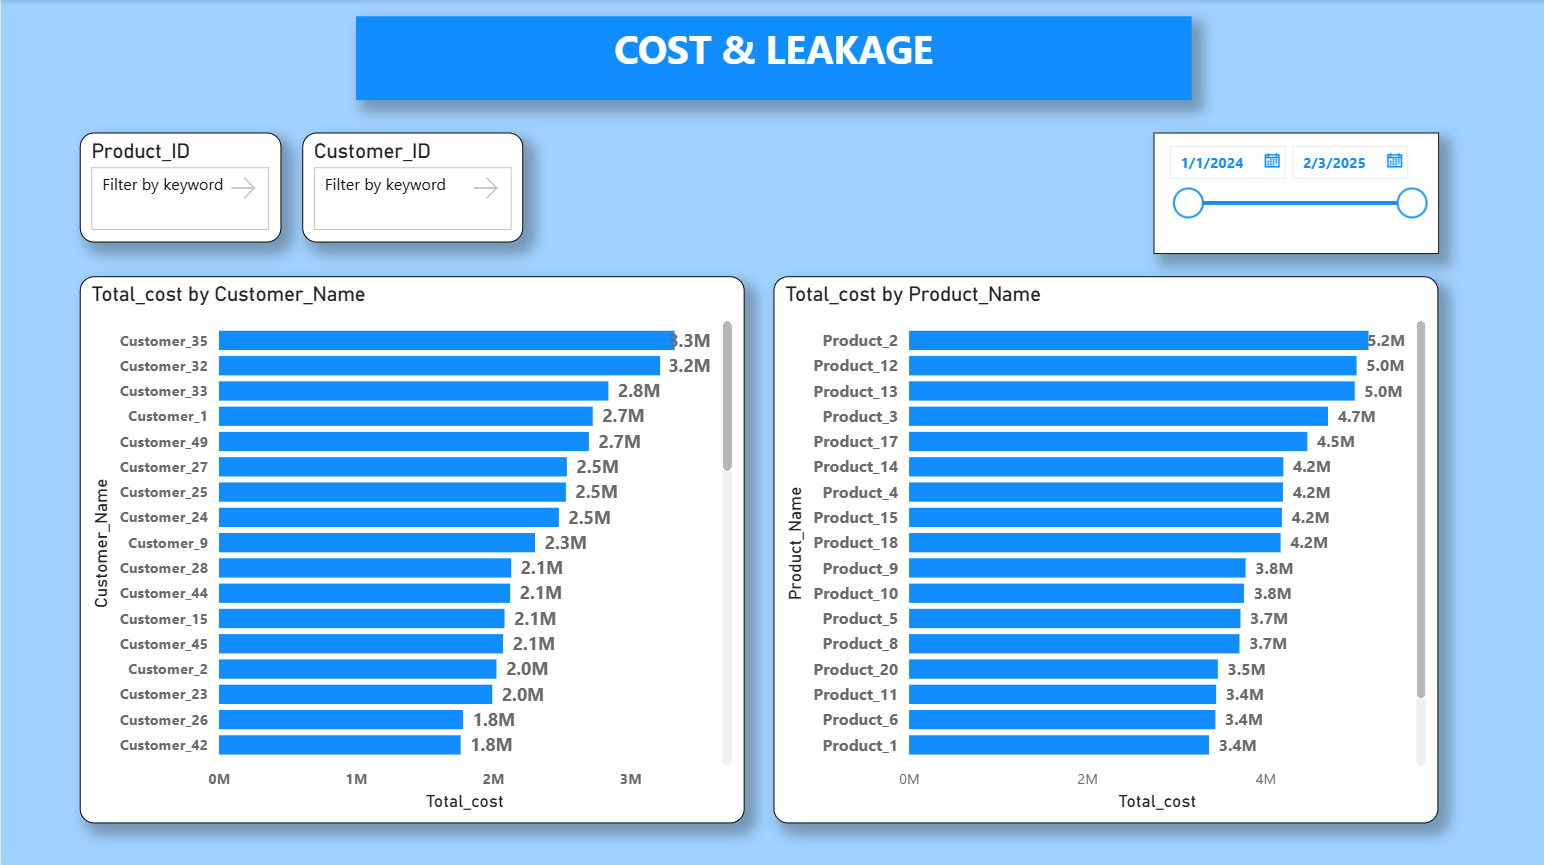

The page's visual inventory and layout, read from the dashboard file:
{"tool":"powerbi","page":{"name":"COST & LEAKAGE","canvas":[1280,720],"ordinal":2},"visuals":[{"type":"barChart","fields":{"Category":["factory_customers.Customer_Name"],"Y":["factory_order_lines_1000.Total_cost"]},"box":[65.3,229,551.3,453.9],"z":0},{"type":"barChart","fields":{"Category":["factory_products.Product_Name"],"Y":["factory_order_lines_1000.Total_cost"]},"box":[640.4,229,551.3,453.9],"z":1000},{"type":"slicer","fields":{"Values":["factory_orders.Order_Date"]},"box":[955.1,109.6,236.6,101],"z":2000},{"type":"textbox","box":[294.3,13,692.5,69.3],"z":3000},{"type":"textSlicer","fields":{"Values":["factory_products.Product_ID"]},"box":[65.3,109.8,166.8,91.2],"z":4000},{"type":"textSlicer","fields":{"Values":["factory_orders.Customer_ID"]},"box":[249.7,109.8,183.4,91.2],"z":5000}]}

Visuals, with their boxes in screenshot pixels (x1, y1, x2, y2), scaled from the page's 1280x720 canvas onto the 1544x865 screenshot:
barChart - factory_customers.Customer_Name x factory_order_lines_1000.Total_cost: BBox(79, 275, 744, 820)
barChart - factory_products.Product_Name x factory_order_lines_1000.Total_cost: BBox(772, 275, 1437, 820)
slicer - factory_orders.Order_Date: BBox(1152, 132, 1437, 253)
textbox: BBox(355, 16, 1190, 99)
textSlicer - factory_products.Product_ID: BBox(79, 132, 280, 241)
textSlicer - factory_orders.Customer_ID: BBox(301, 132, 522, 241)
